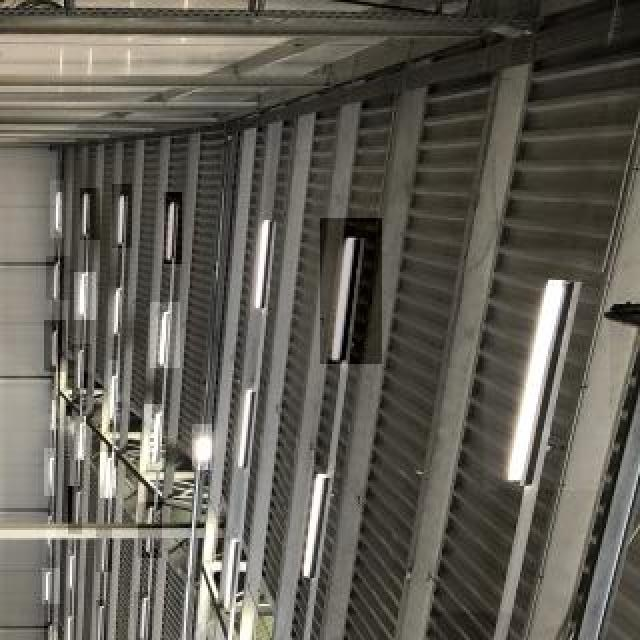fluorescent tube: (502, 271, 591, 487), (316, 220, 373, 371), (285, 462, 342, 594), (243, 211, 274, 331), (233, 385, 262, 473), (218, 536, 246, 613), (146, 298, 174, 371), (140, 409, 165, 471), (111, 178, 131, 251), (46, 249, 69, 307), (71, 269, 96, 322), (162, 194, 180, 263), (67, 347, 91, 397), (130, 598, 158, 640), (71, 409, 91, 467), (104, 284, 124, 340), (60, 547, 85, 591), (142, 502, 162, 554), (89, 526, 109, 577), (37, 509, 59, 555), (47, 320, 65, 376), (95, 455, 118, 498), (38, 395, 64, 433), (76, 194, 96, 242), (63, 493, 85, 536), (40, 449, 58, 496), (90, 598, 110, 640), (38, 560, 58, 600), (45, 196, 63, 233), (60, 612, 82, 640), (40, 618, 58, 640), (436, 636, 508, 640), (111, 376, 114, 420)
